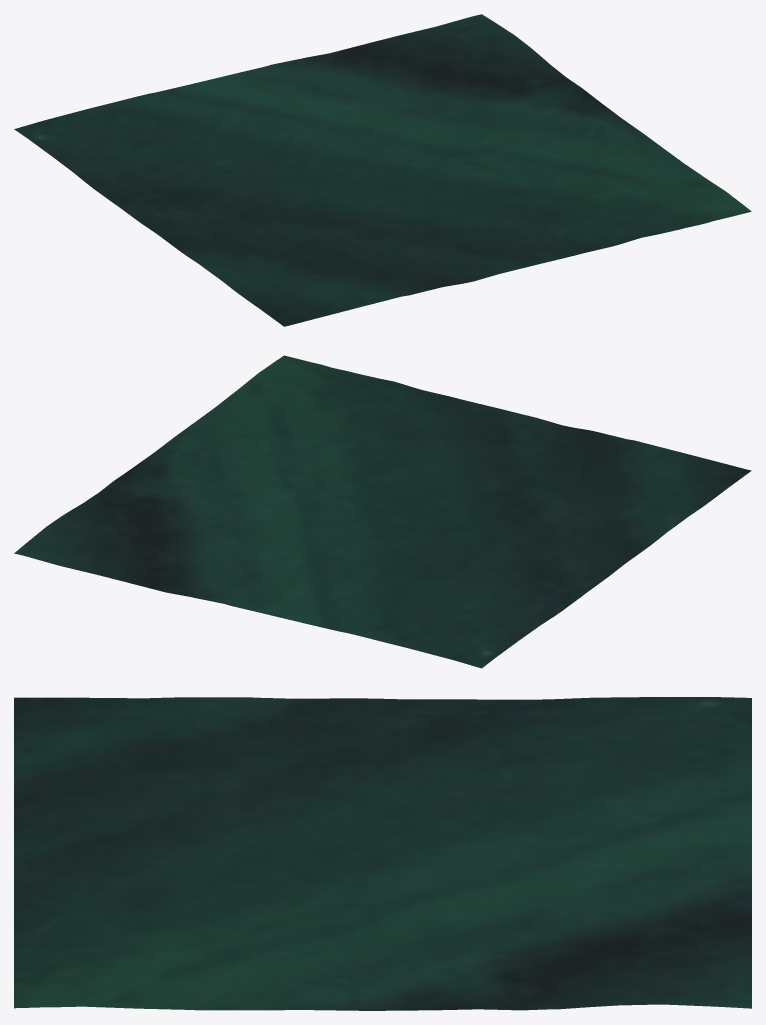
3 renders of one model, top to bottom at view 1: azimuth 30°, elevation 25°; view 2: azimuth 150°, elevation 25°; view 3: azimuth 270°, elevation 25°, orthographic. The views are drawn at different scales.
Size of the model in its own units: 52.22 by 0.8055 by 52.22.
2 materials, 2 textured.
